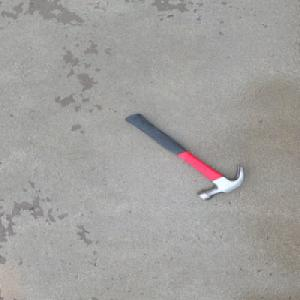Hammer: (122, 113, 245, 201)
